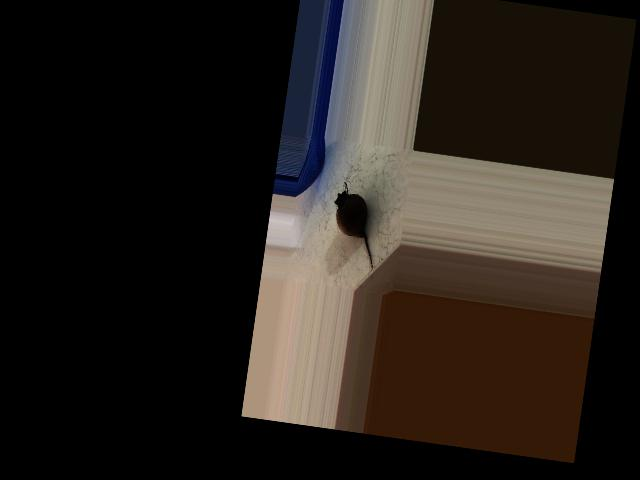beet: (326, 181, 384, 271)
